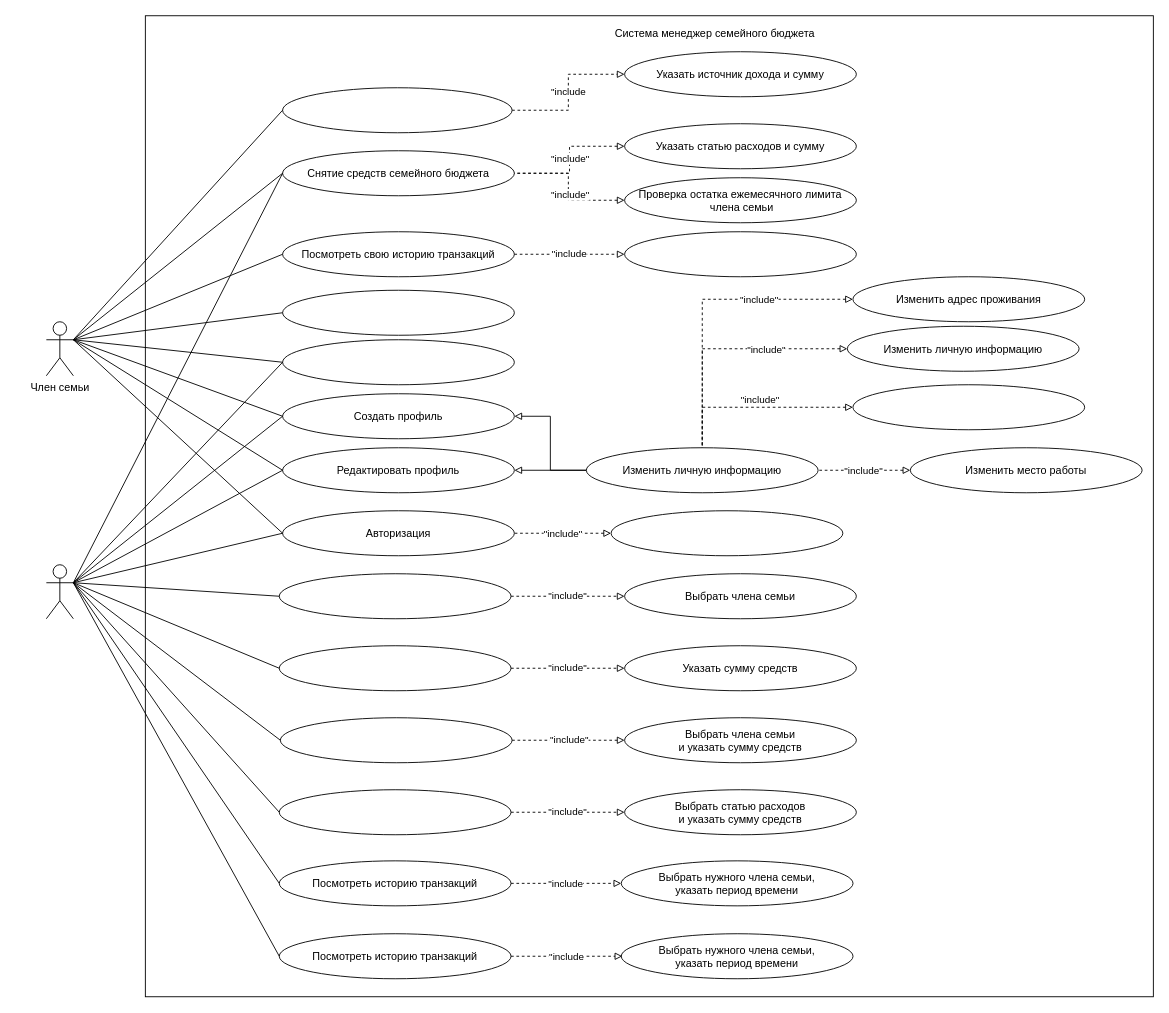
The diagram is 1169 pixels wide and 1013 high, and some of its shapes have lost their labels. The centre of each missing label's shape, as x and y in pixels:
"Ввести имя пользователя и пароль" belongs at (726,533).
"Глава семейства" belongs at (59,591).
"Изменить фотографии" belongs at (968,407).
"Наделить своими возможностями другого члена семьи" belongs at (394,596).
"Пополнение семейного бюджета" belongs at (397,110).
"Посмотреть баланс семейного бюджета" belongs at (398,362).
"Посмотреть личный баланс" belongs at (398,312).
"Указать период времени" belongs at (740,254).
"Установить ежемесячный лимит для члена семьи" belongs at (395,740).
"Установить неприкосновенную сумму средств" belongs at (394,668).
"Установить ограничения на статью расходов" belongs at (394,812).
